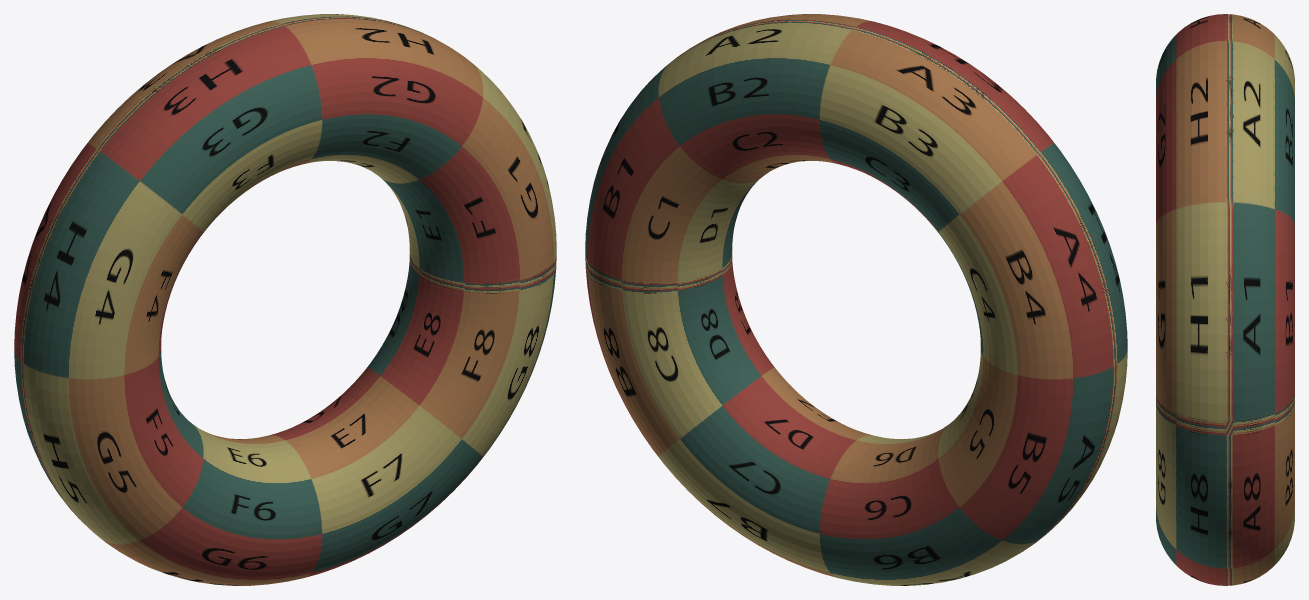
The model's file is texture_torus_R7_r7.glb.
3 renders of one model, left to right at view 1: azimuth 30°, elevation 25°; view 2: azimuth 150°, elevation 25°; view 3: azimuth 270°, elevation 25°, orthographic. The views are drawn at different scales.
Parts seen in each view (by area): view 1: world; view 2: world; view 3: world.
Boxes of the visible parts, x1,y1,x2,y2 form: world: (14,14,556,585); world: (585,14,1127,585); world: (1156,14,1294,585).
Bounding box in the file's own units: 33.78 × 33.78 × 8.21.
1 material, 1 textured.
